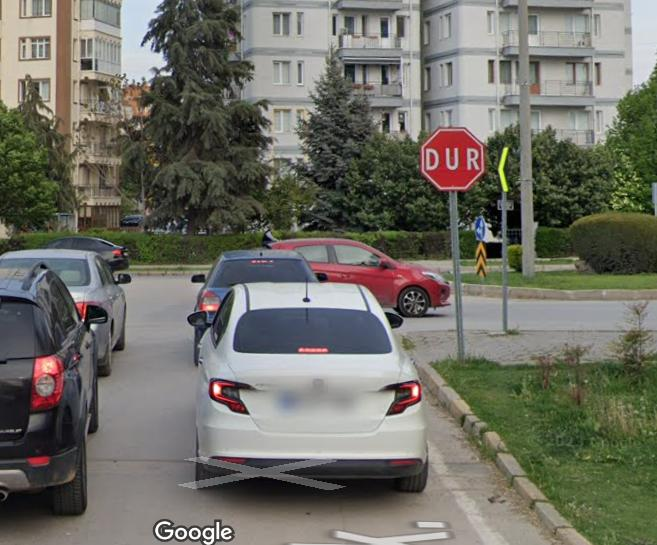stop: (416, 127, 484, 188)
